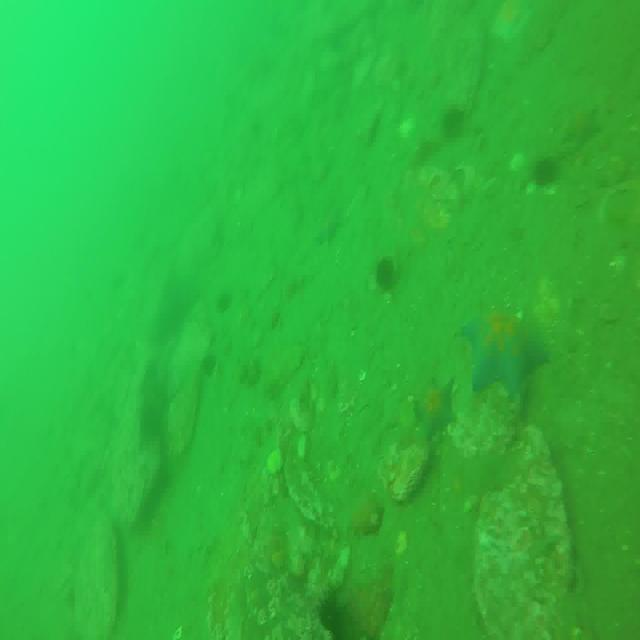echinus: (317, 594, 350, 640), (444, 104, 467, 136), (534, 156, 554, 189), (378, 256, 394, 286)
starfish: (459, 307, 545, 399), (417, 380, 456, 437), (562, 105, 603, 153), (316, 209, 343, 246)
